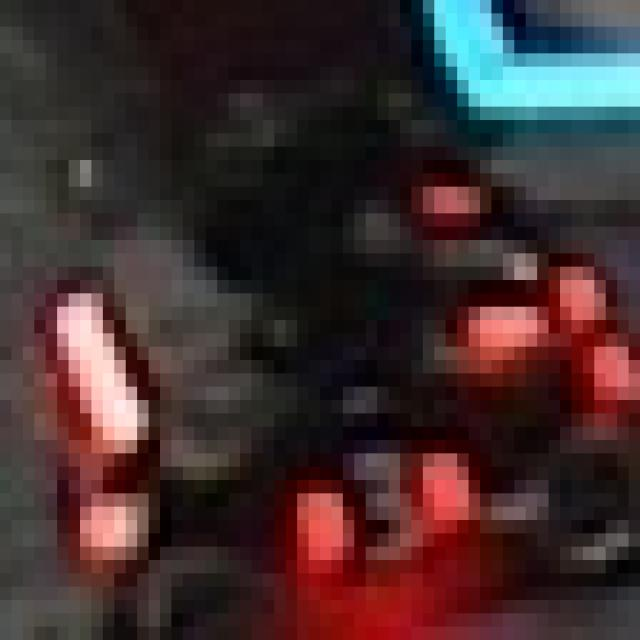R3: (286, 427, 457, 573)
